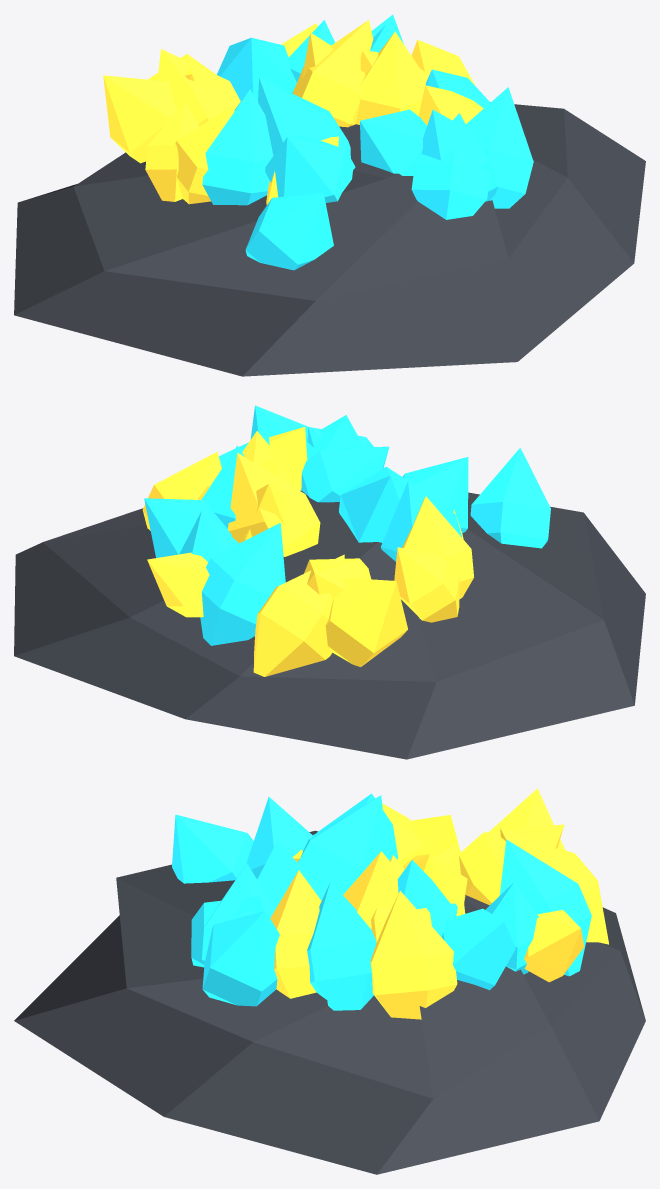
The model's file is PROP_15_CrystalShardPile.fbx.
3 views of the same model, one above another, from view 1: azimuth 30°, elevation 25°; view 2: azimuth 150°, elevation 25°; view 3: azimuth 270°, elevation 25° (orthographic). The views are drawn at different scales.
Parts seen in each view (by area): view 1: PROP_15_CrystalShardPile; view 2: PROP_15_CrystalShardPile; view 3: PROP_15_CrystalShardPile.
Part boxes in pixels (x1,y1,x2,y2): PROP_15_CrystalShardPile: [14, 14, 645, 376]; PROP_15_CrystalShardPile: [14, 405, 645, 759]; PROP_15_CrystalShardPile: [14, 788, 645, 1174].
Size of the model in its own units: 185 by 52.85 by 154.
